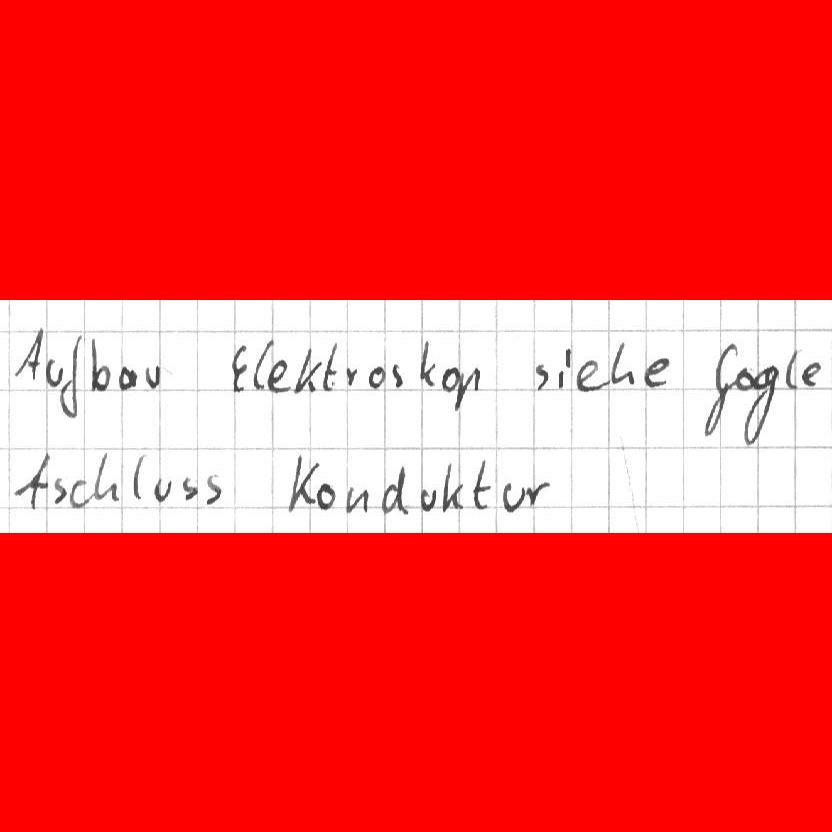Char: (703, 339, 738, 440), (743, 364, 780, 447), (11, 452, 49, 512), (58, 339, 84, 416), (286, 451, 316, 515), (13, 327, 44, 384), (379, 462, 408, 515), (451, 365, 480, 415), (292, 345, 320, 396), (92, 452, 120, 502), (250, 338, 273, 393), (90, 334, 111, 393), (609, 339, 634, 388), (442, 460, 464, 513), (472, 457, 492, 510), (417, 340, 438, 388), (228, 343, 247, 395), (320, 341, 339, 391), (130, 453, 149, 500), (644, 357, 670, 391), (576, 359, 602, 392), (782, 347, 800, 391), (524, 477, 549, 508), (267, 358, 289, 392), (556, 347, 572, 393), (344, 486, 369, 514), (203, 472, 224, 504), (501, 483, 524, 510), (316, 481, 336, 512), (801, 360, 822, 389), (439, 365, 460, 394), (143, 361, 163, 390), (152, 478, 174, 504), (733, 367, 754, 393), (179, 475, 199, 502), (367, 363, 386, 391), (50, 477, 68, 506), (533, 361, 550, 391), (69, 479, 86, 509), (118, 363, 136, 391), (46, 358, 63, 386), (419, 486, 438, 511), (390, 362, 405, 390), (344, 365, 357, 389)
